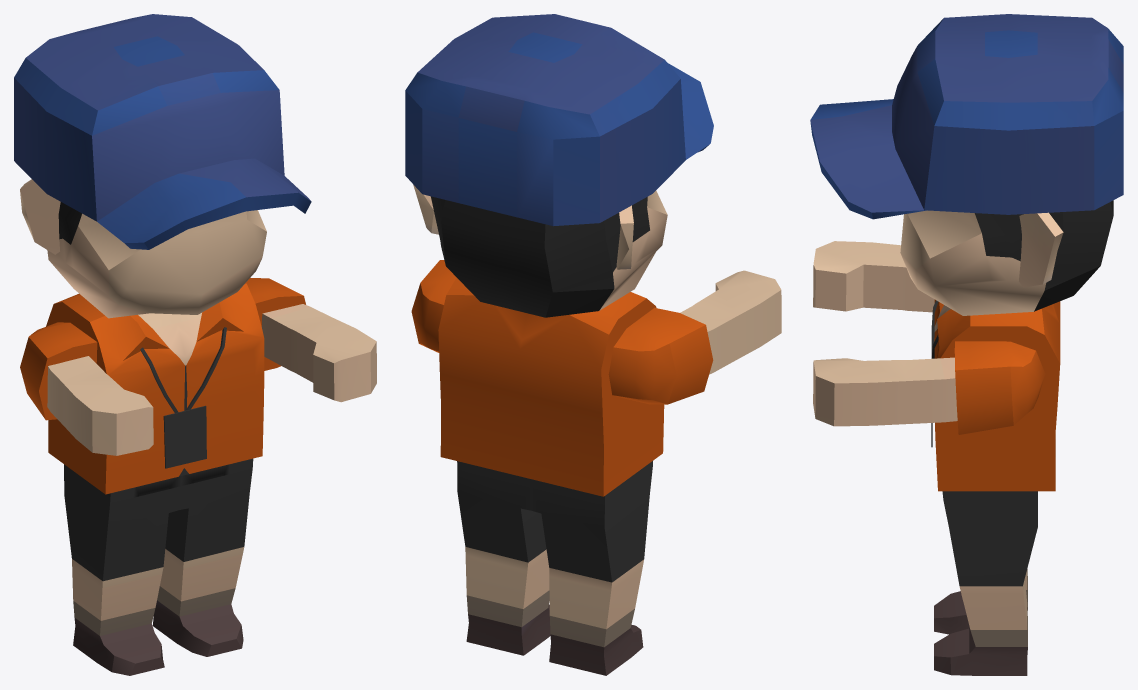
File: Man1_Mo.fbx
3 views of the same model, side by side, from view 1: azimuth 30°, elevation 25°; view 2: azimuth 150°, elevation 25°; view 3: azimuth 270°, elevation 25° (orthographic). The views are drawn at different scales.
Parts seen in each view (by area): view 1: couriermancar_0; view 2: couriermancar_0; view 3: couriermancar_0.
Boxes of the visible parts, left/top/right/bottom form: couriermancar_0: left=14, top=14, right=376, bottom=675; couriermancar_0: left=405, top=14, right=781, bottom=675; couriermancar_0: left=810, top=14, right=1123, bottom=675.
Size of the model in its own units: 156 by 305 by 145.
Materials: 1 (1 with a texture image).
